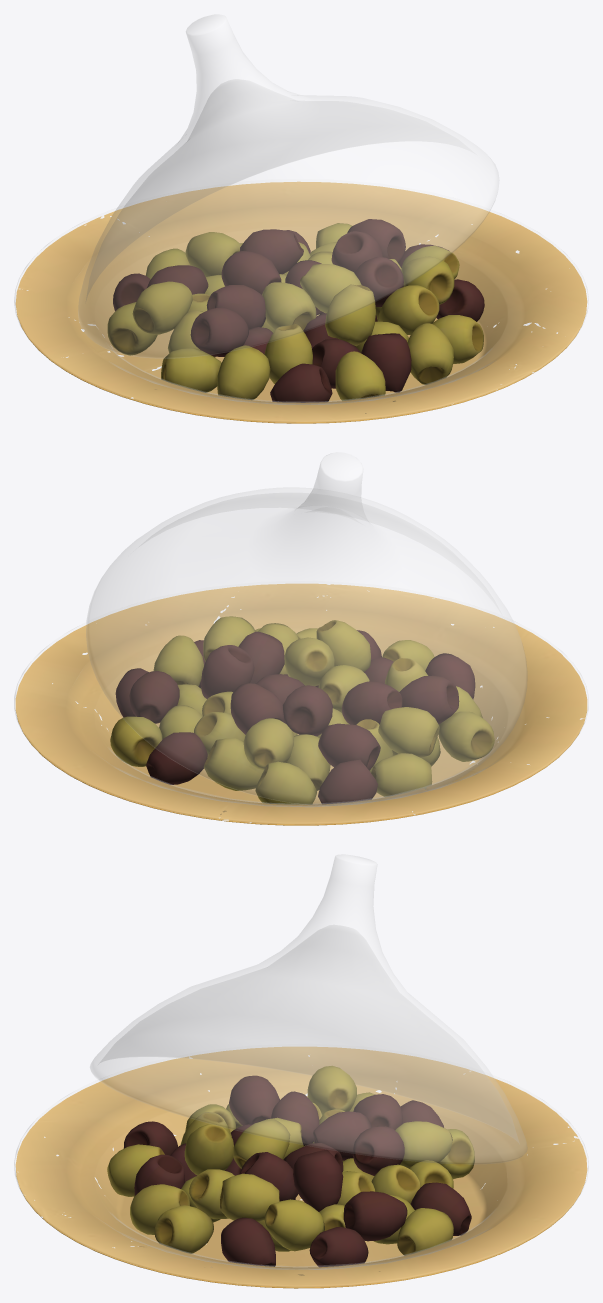
File: olives.glb
3 views of the same model, one above another, from view 1: azimuth 30°, elevation 25°; view 2: azimuth 150°, elevation 25°; view 3: azimuth 270°, elevation 25° (orthographic).
Parts seen in each view (by area): view 1: glassCover, goldLeaf, glassDish, olives; view 2: glassCover, glassDish, goldLeaf, olives; view 3: glassCover, goldLeaf, olives, glassDish.
Part boxes in pixels (<box>): glassCover: <box>78,14,499,358</box>; goldLeaf: <box>15,181,587,423</box>; glassDish: <box>14,180,588,422</box>; olives: <box>107,219,484,402</box>; glassCover: <box>86,452,527,805</box>; glassDish: <box>14,581,588,824</box>; goldLeaf: <box>15,583,587,825</box>; olives: <box>110,616,494,804</box>; glassCover: <box>90,854,527,1164</box>; goldLeaf: <box>15,1047,587,1288</box>; olives: <box>107,1065,474,1267</box>; glassDish: <box>14,1057,588,1287</box>.
Bounding box in the file's own units: 0.4593 × 0.2854 × 0.4593.
Materials: 4 (2 with a texture image).
